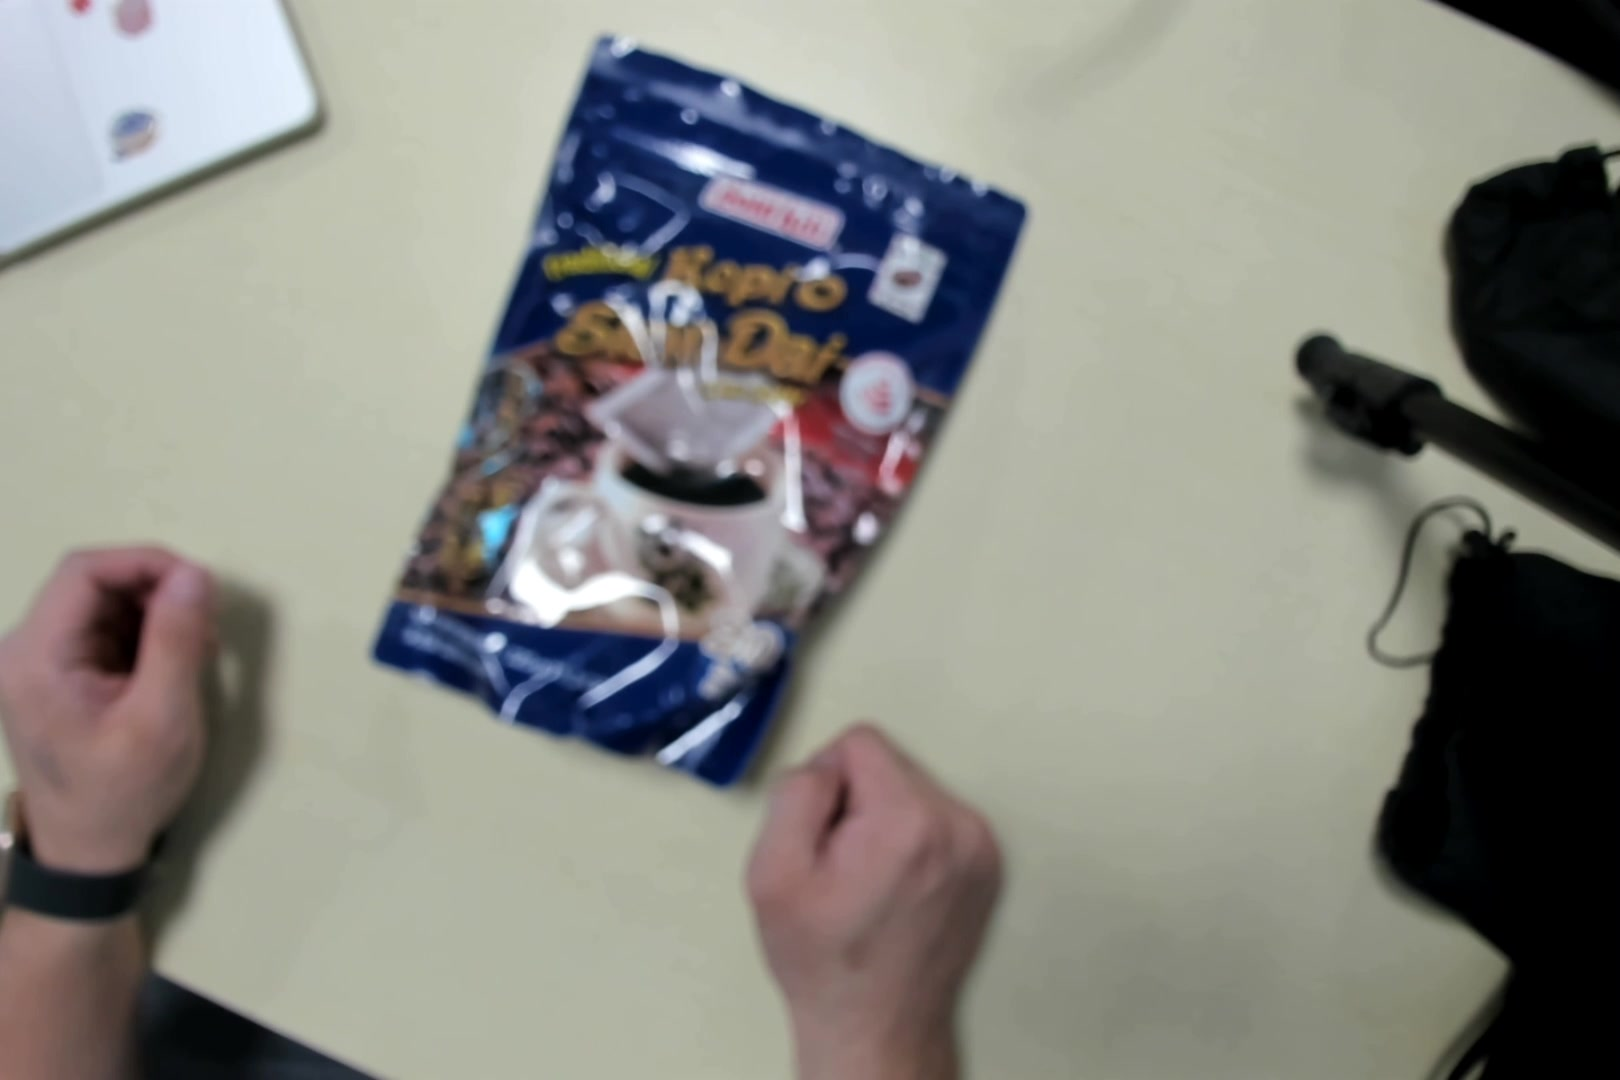Coffee(Powder)_300-399g_Halal_Healthy: (377, 28, 1045, 796)
